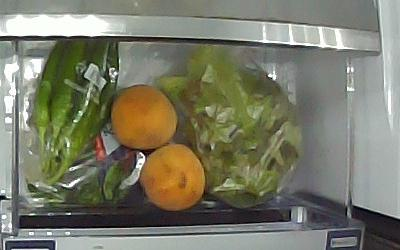peach: (109, 84, 177, 150), (140, 144, 206, 212)
